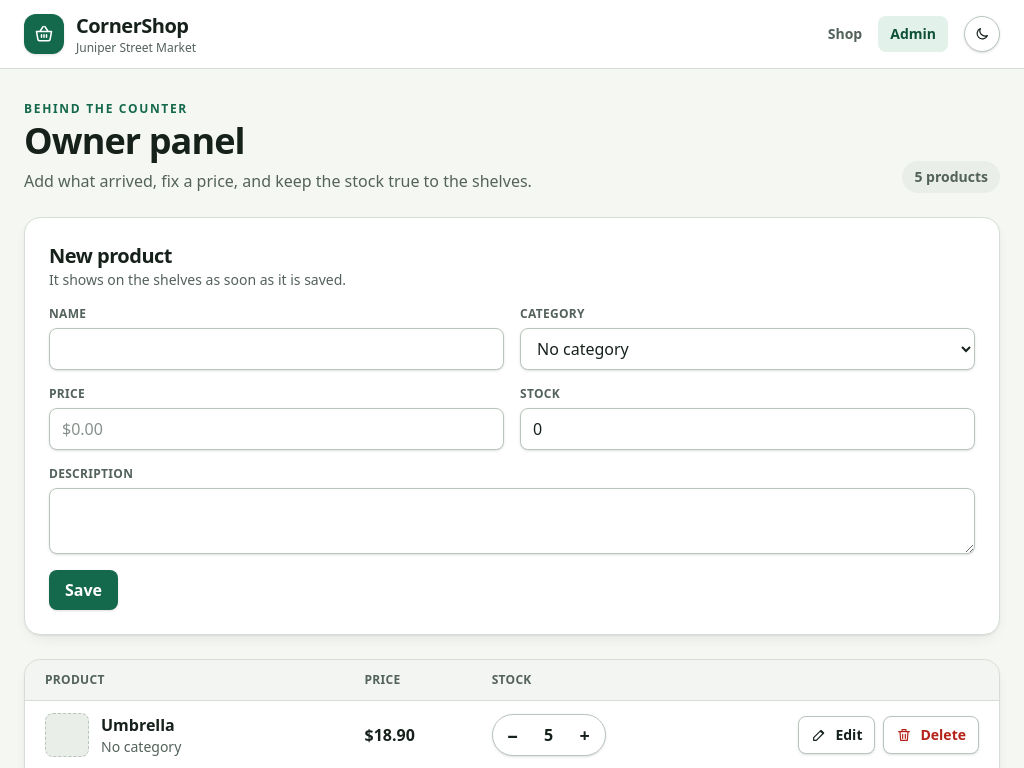
Scenario: the owner panel › keeps the product when the question is dismissed with Cancel
The image size is (1024, 768).
Click the button with aria-label "Delete Umbrella" at (931, 735), box [884, 716, 979, 754]
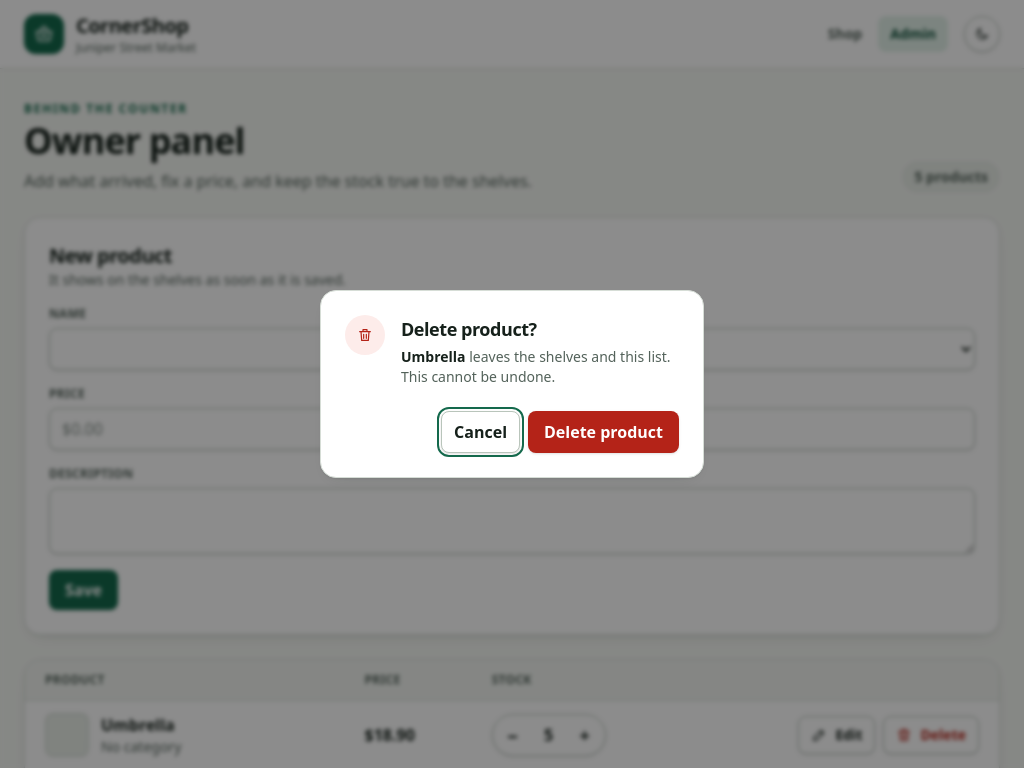
Click the button "Cancel" at (481, 432), box [441, 411, 520, 453]
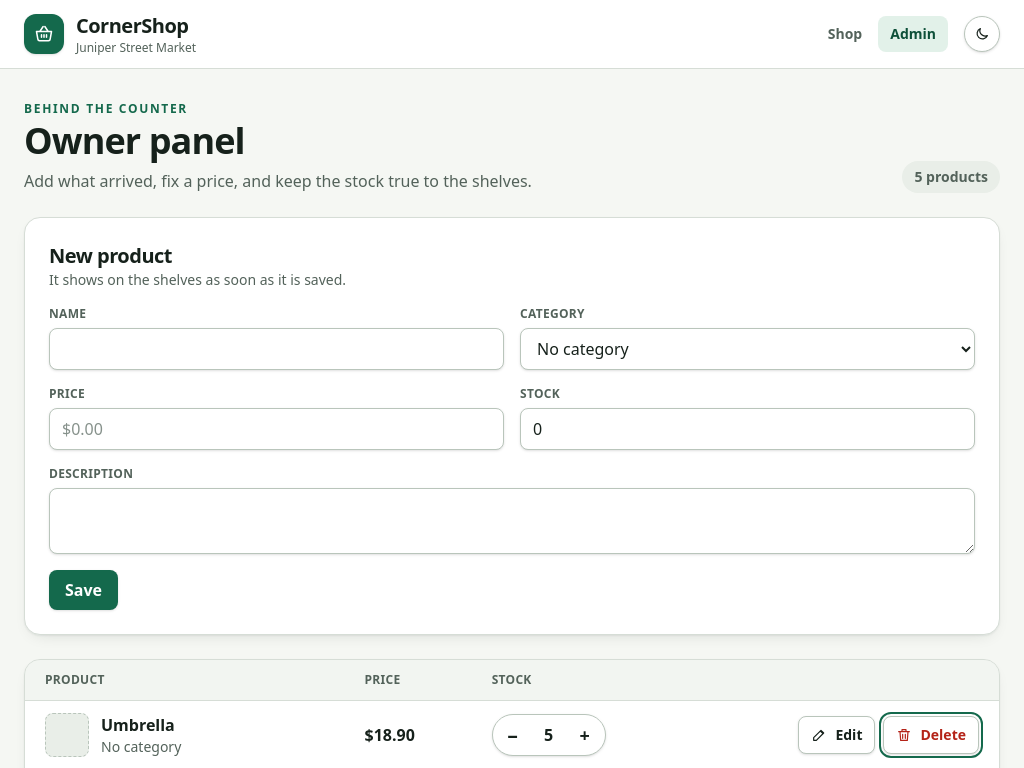
Expected: the text "Umbrella" is shown, [101, 713, 181, 737]
Expected: the dialog is gone
